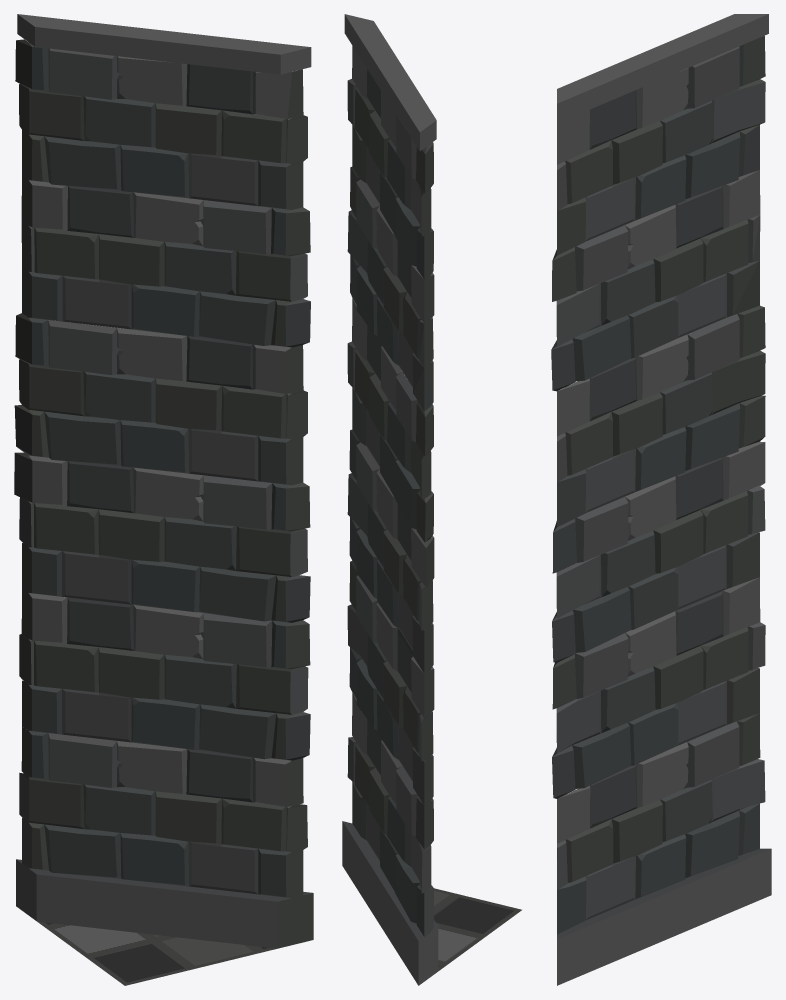
The model's file is Dungeon_Tilemap_13.gltf.
The picture shows the model from 3 angles, left to right: view 1: azimuth 30°, elevation 25°; view 2: azimuth 150°, elevation 25°; view 3: azimuth 270°, elevation 25°; orthographic projection. The views are drawn at different scales.
Visible parts, largest first — view 1: Dungeon_Tilemap_13; view 2: Dungeon_Tilemap_13; view 3: Dungeon_Tilemap_13.
Part boxes in pixels (x1,y1,x2,y2): Dungeon_Tilemap_13: [14, 14, 313, 985]; Dungeon_Tilemap_13: [342, 14, 521, 985]; Dungeon_Tilemap_13: [551, 14, 771, 985].
Bounding box in the file's own units: 0.5675 × 2.5 × 0.5674.
2 materials, 2 textured.
